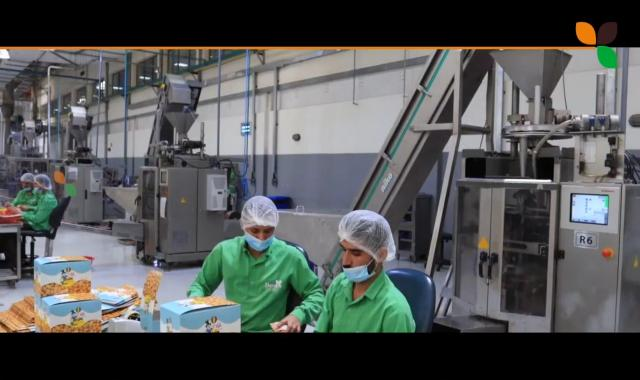hairnet: (338, 208, 398, 266), (241, 197, 279, 233), (35, 172, 53, 193), (18, 173, 34, 186)
